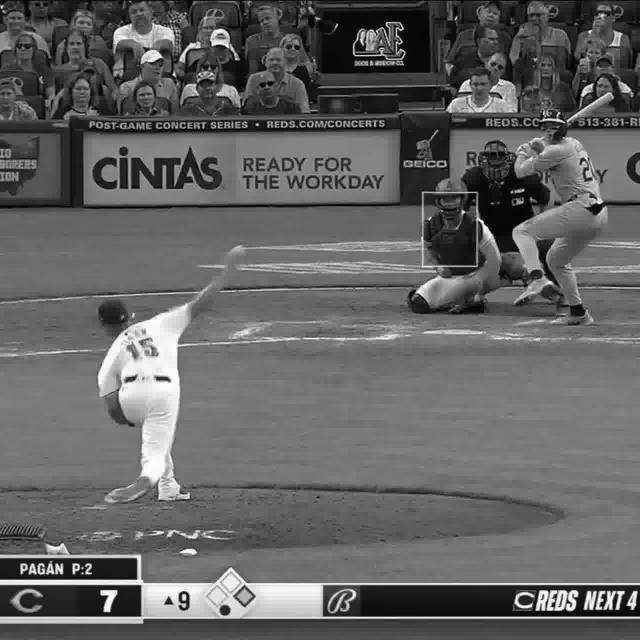base: (422, 328, 491, 339)
baseball: (230, 243, 244, 257)
baseball_glove: (452, 292, 490, 320)
bat: (566, 89, 618, 133)
shoe: (108, 470, 154, 505), (517, 276, 553, 307), (546, 309, 594, 328), (151, 488, 187, 502)
